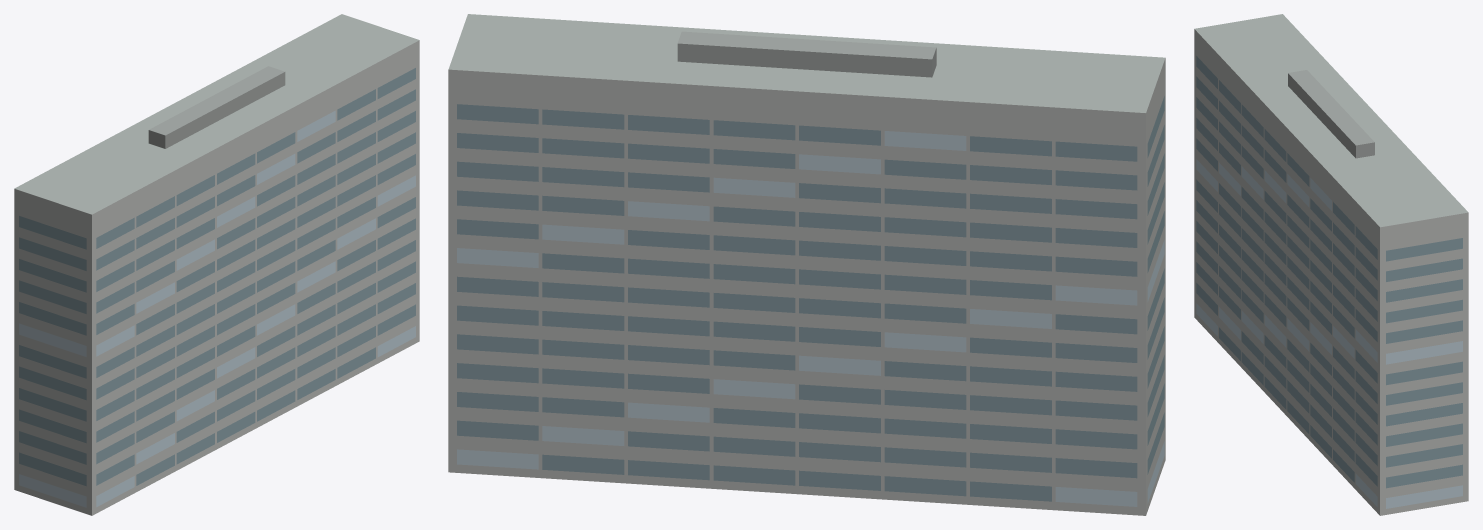
File: fallback-daechi-eunma-12.glb
The picture shows the model from 3 angles, left to right: view 1: azimuth 30°, elevation 25°; view 2: azimuth 150°, elevation 25°; view 3: azimuth 270°, elevation 25°; orthographic projection. The views are drawn at different scales.
Visible parts, largest first — view 1: fallback-daechi-eunma-12; view 2: fallback-daechi-eunma-12; view 3: fallback-daechi-eunma-12.
Part boxes in pixels (bbox=[...]): fallback-daechi-eunma-12: bbox=[14, 14, 419, 515]; fallback-daechi-eunma-12: bbox=[448, 14, 1165, 515]; fallback-daechi-eunma-12: bbox=[1194, 14, 1468, 515].
Size of the model in its own units: 67.69 by 44.62 by 36.79.
